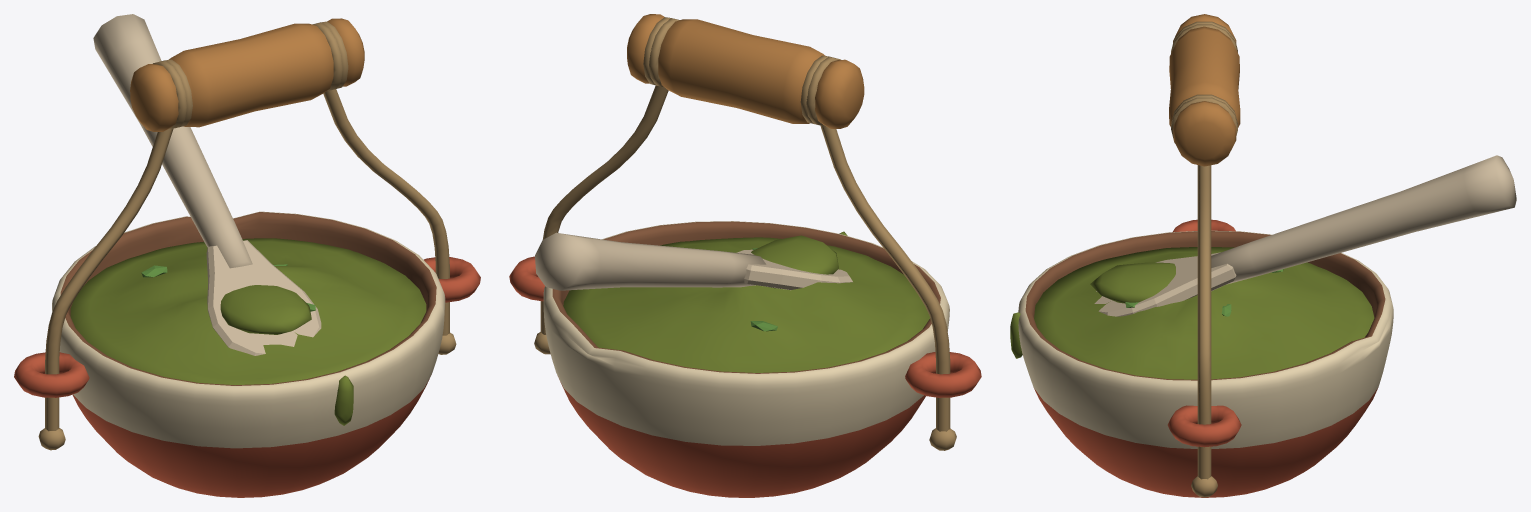
File: tool_poulticebowl.fbx
The picture shows the model from 3 angles, left to right: view 1: azimuth 30°, elevation 25°; view 2: azimuth 150°, elevation 25°; view 3: azimuth 270°, elevation 25°; orthographic projection. The views are drawn at different scales.
Visible parts, largest first — view 1: Tool_PoulticeBowl_Bowl, Tool_PoulticeBowl_Paste, Tool_PoulticeBowl_Toggle, Tool_PoulticeBowl_Spatula, Tool_PoulticeBowl_Bail, Tool_PoulticeBowl_SpatulaPaste; view 2: Tool_PoulticeBowl_Bowl, Tool_PoulticeBowl_Paste, Tool_PoulticeBowl_Toggle, Tool_PoulticeBowl_Spatula, Tool_PoulticeBowl_Bail, Tool_PoulticeBowl_SpatulaPaste; view 3: Tool_PoulticeBowl_Bowl, Tool_PoulticeBowl_Paste, Tool_PoulticeBowl_Spatula, Tool_PoulticeBowl_Toggle, Tool_PoulticeBowl_Bail, Tool_PoulticeBowl_SpatulaPaste.
Part boxes in pixels (box(x1,y1,x2,y2)): Tool_PoulticeBowl_Bowl: box(14, 211, 480, 497); Tool_PoulticeBowl_Paste: box(70, 238, 426, 425); Tool_PoulticeBowl_Toggle: box(130, 18, 364, 131); Tool_PoulticeBowl_Spatula: box(93, 14, 321, 355); Tool_PoulticeBowl_Bail: box(38, 21, 456, 450); Tool_PoulticeBowl_SpatulaPaste: box(220, 285, 311, 334); Tool_PoulticeBowl_Bowl: box(509, 221, 981, 497); Tool_PoulticeBowl_Paste: box(563, 231, 929, 372); Tool_PoulticeBowl_Toggle: box(627, 14, 864, 128); Tool_PoulticeBowl_Spatula: box(535, 232, 852, 290); Tool_PoulticeBowl_Bail: box(534, 17, 956, 450); Tool_PoulticeBowl_SpatulaPaste: box(751, 235, 838, 288); Tool_PoulticeBowl_Bowl: box(1018, 219, 1393, 497); Tool_PoulticeBowl_Paste: box(1010, 247, 1374, 379); Tool_PoulticeBowl_Spatula: box(1094, 155, 1516, 316); Tool_PoulticeBowl_Toggle: box(1169, 14, 1240, 166); Tool_PoulticeBowl_Bail: box(1171, 21, 1237, 497); Tool_PoulticeBowl_SpatulaPaste: box(1090, 262, 1175, 303).
Bounding box in the file's own units: 24.7 × 21.89 × 24.59.
